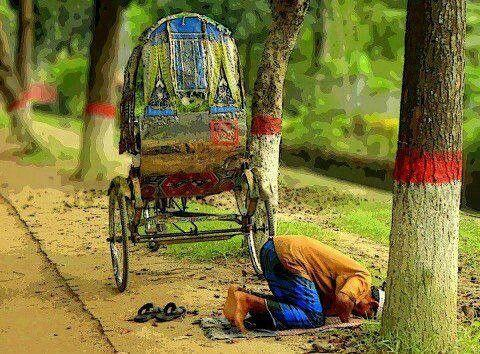Rickshaw: (108, 13, 272, 290)
